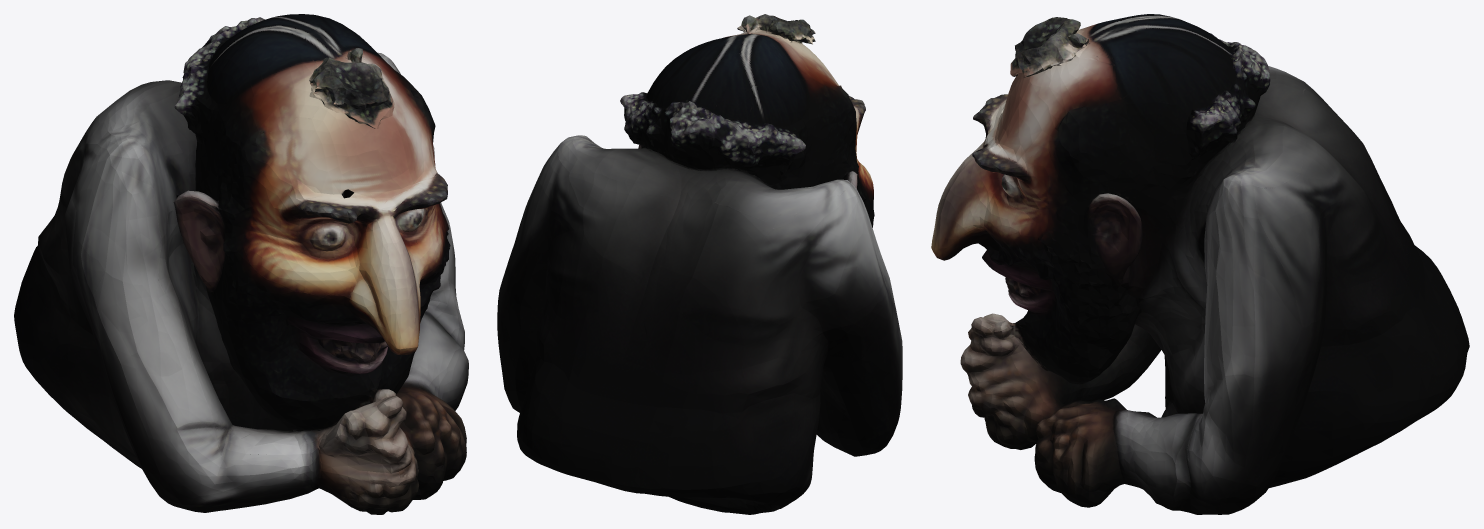
The model's file is merchant.glb.
The picture shows the model from 3 angles, left to right: view 1: azimuth 30°, elevation 25°; view 2: azimuth 150°, elevation 25°; view 3: azimuth 270°, elevation 25°; orthographic projection. The views are drawn at different scales.
Parts seen in each view (by area): view 1: world; view 2: world; view 3: world.
Part boxes in pixels (bbox=[...]): world: bbox=[14, 14, 468, 514]; world: bbox=[497, 14, 902, 514]; world: bbox=[931, 14, 1469, 514].
Bounding box in the file's own units: 0.7026 × 0.8203 × 0.8678.
Materials: 1 (1 with a texture image).
